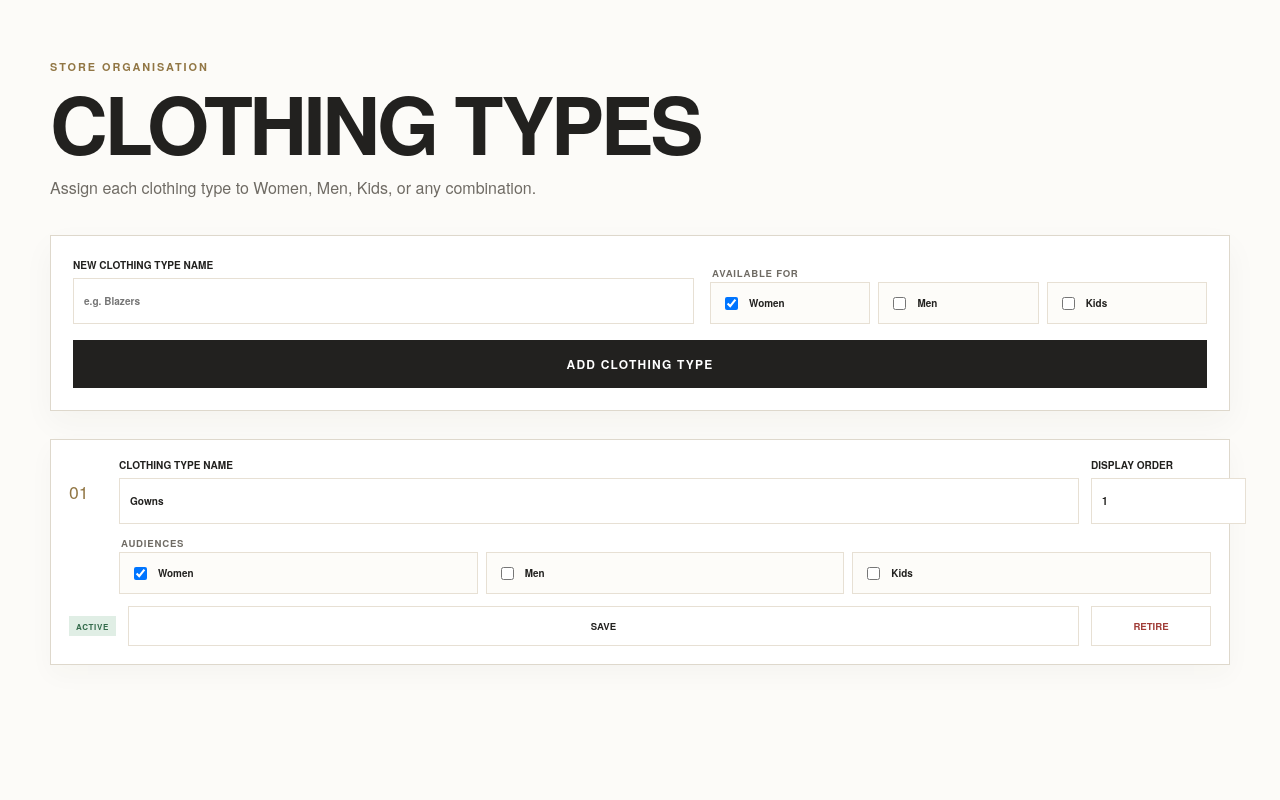
Test case: shows how many products block clothing type retirement
Click the button "Retire".
click(1151, 626)  # box [1091,606,1211,646]
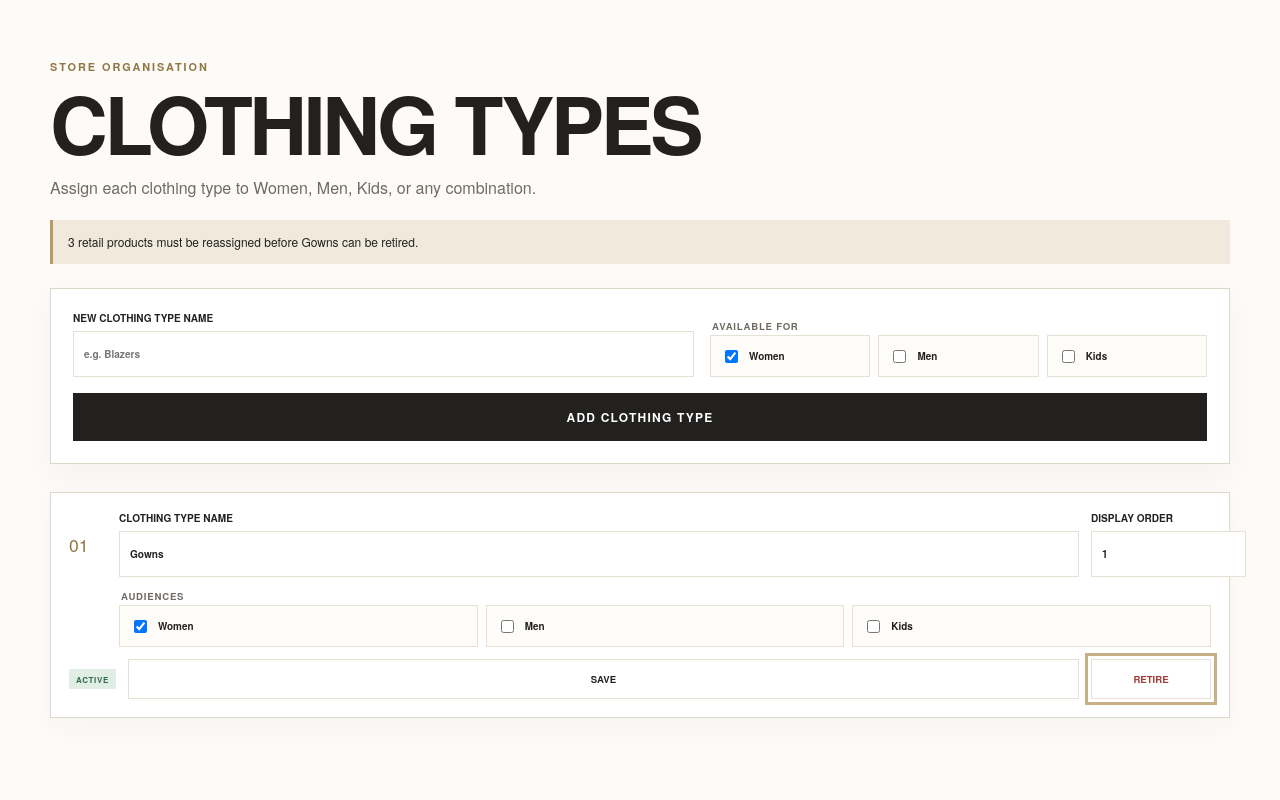
Check: the text "3 retail products must be reassigned before Gowns can be retired." is shown, box [50,220,1230,264]
